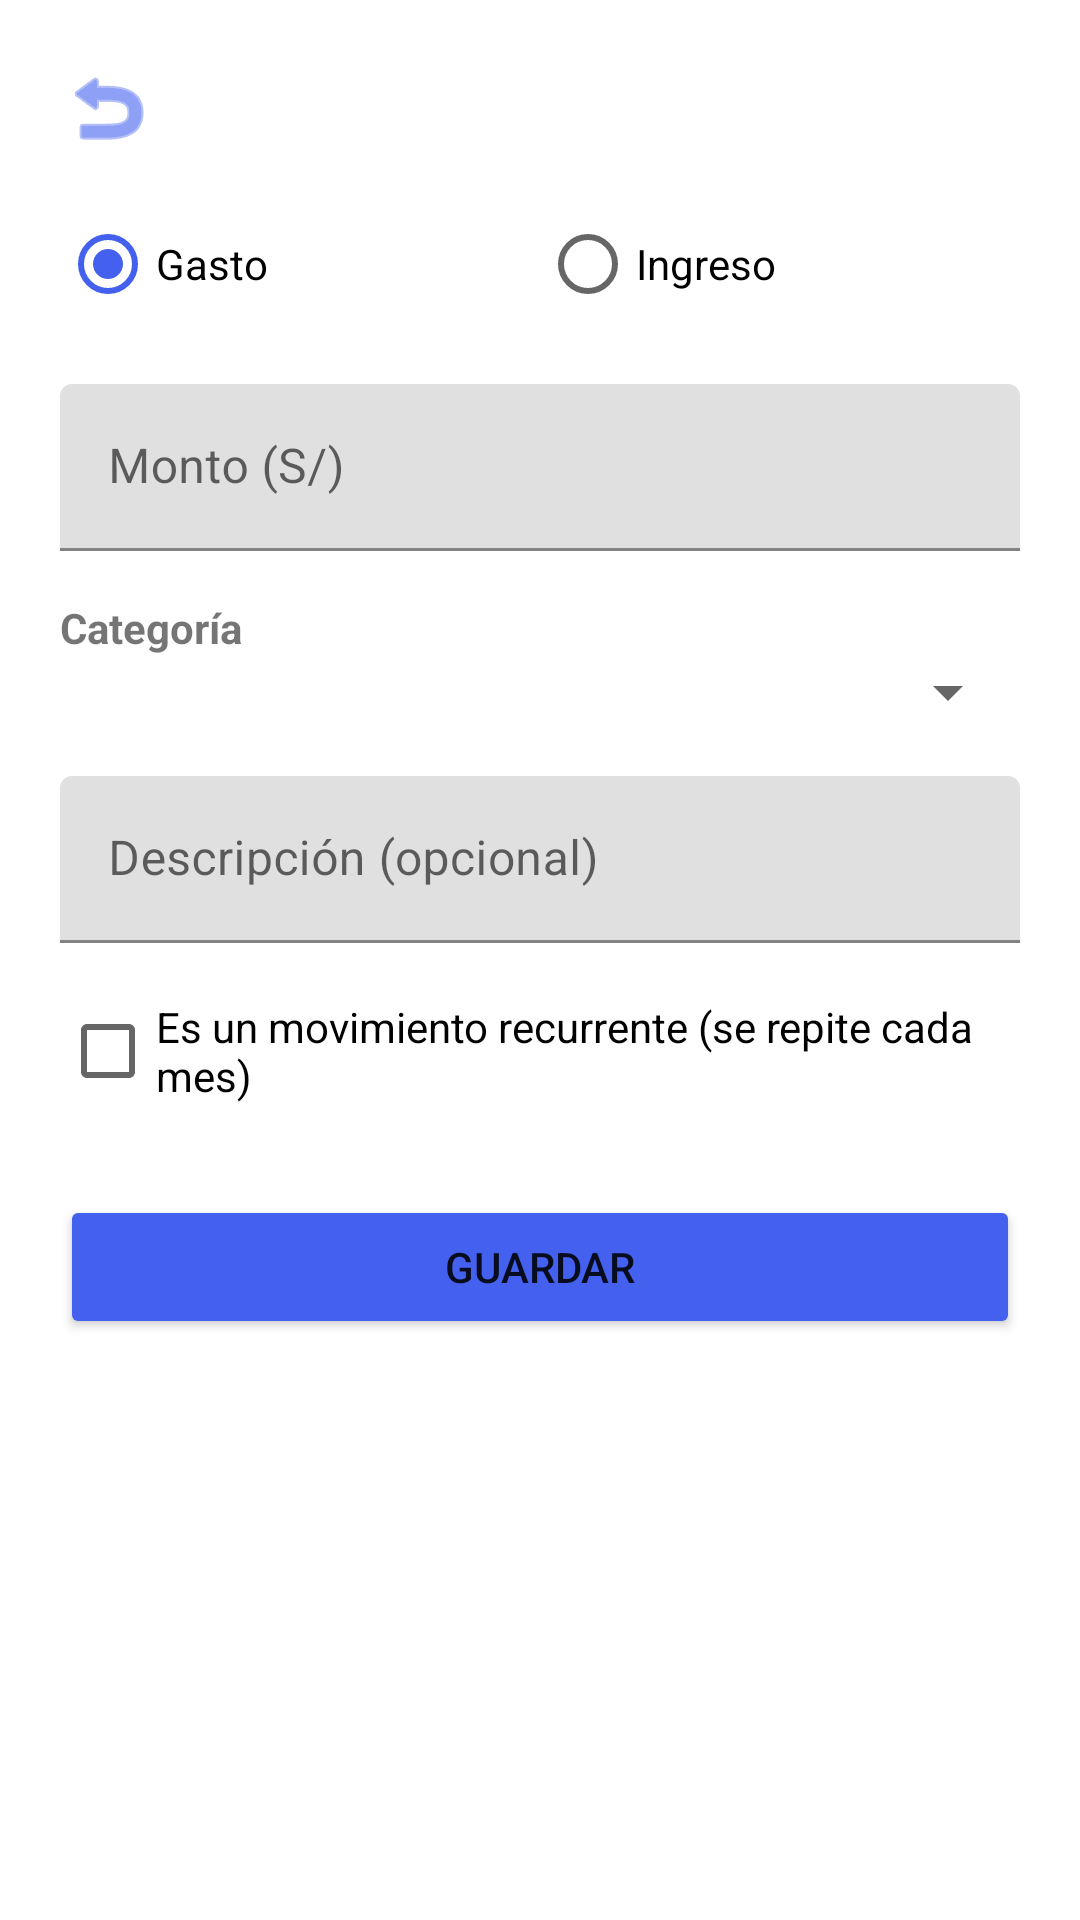

Icon bounding boxes for this 1080px x 1920px phone screenshot, format (left=x1, top=y1, right=x2, bottom=y2):
Volver: (left=75, top=77, right=144, bottom=140)
